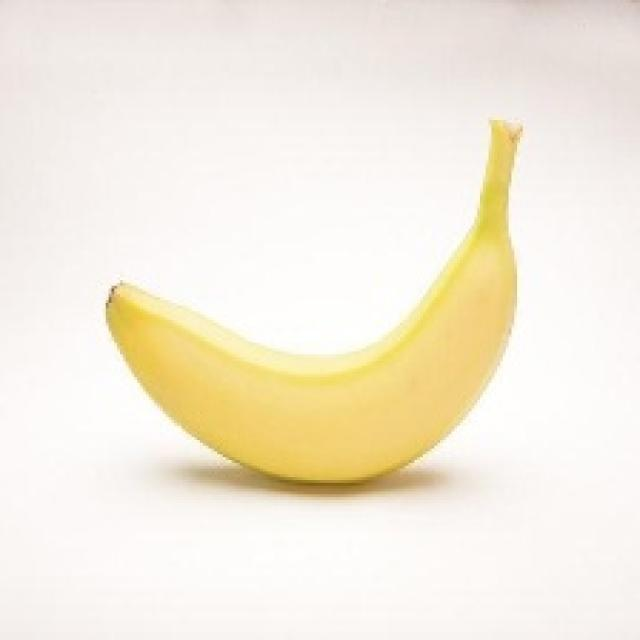Banana: (103, 114, 523, 486)
